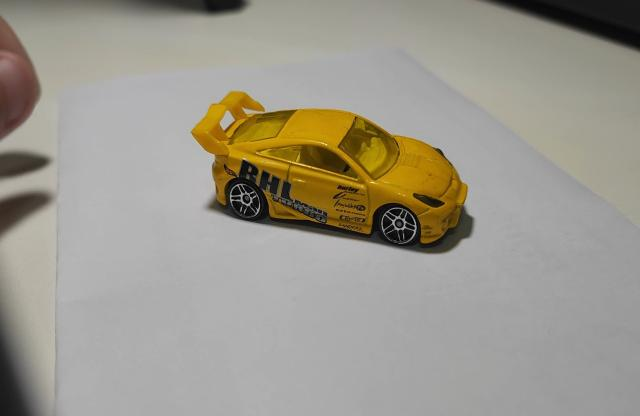07_RHLTURBO: (190, 92, 474, 254)
